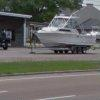Boat: (34, 14, 100, 67)
